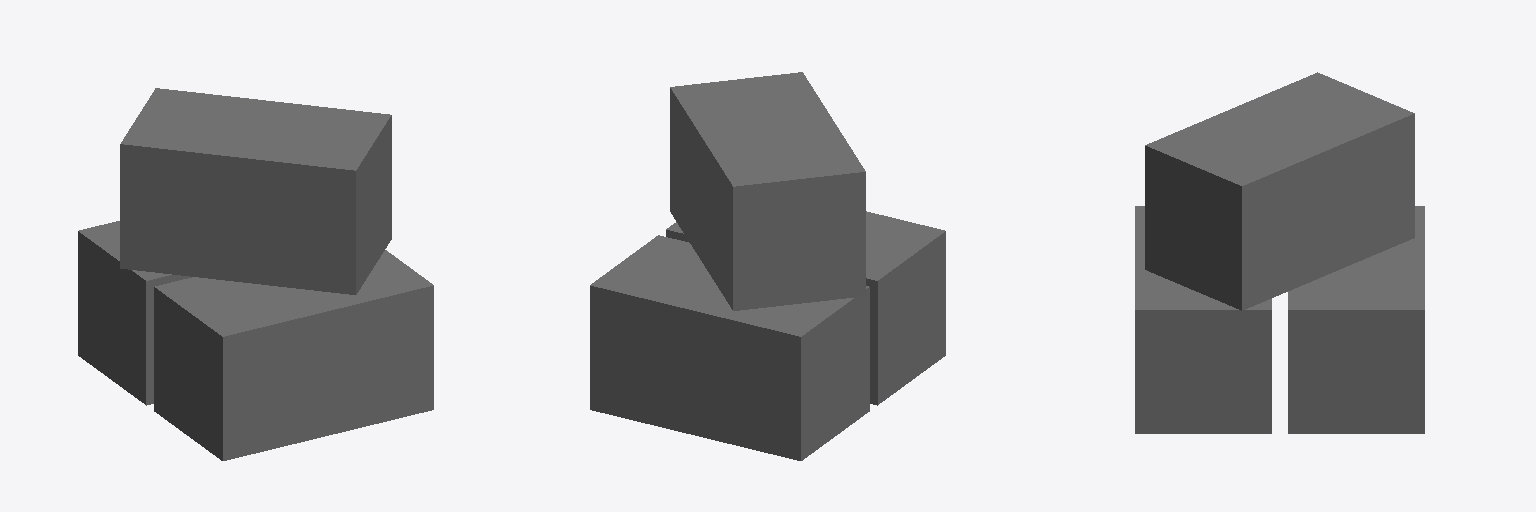
Rendered from Stone_Block.obj.
3 views of the same model, side by side, from view 1: azimuth 30°, elevation 25°; view 2: azimuth 150°, elevation 25°; view 3: azimuth 270°, elevation 25° (orthographic).
Visible parts, largest first — view 1: Block Block3, Block Block2, Block1 Block; view 2: Block1 Block, Block Block3, Block Block2; view 3: Block Block3, Block1 Block, Block Block2.
Boxes of the visible parts, x1,y1,x2,y2 form: Block Block3: [120, 88, 391, 294]; Block Block2: [154, 250, 433, 460]; Block1 Block: [78, 221, 191, 405]; Block1 Block: [590, 235, 869, 460]; Block Block3: [670, 72, 865, 310]; Block Block2: [666, 211, 945, 405]; Block Block3: [1145, 72, 1414, 310]; Block1 Block: [1288, 206, 1424, 433]; Block Block2: [1135, 206, 1271, 433].
Bounding box in the file's own units: 1.77 × 1.83 × 1.9.